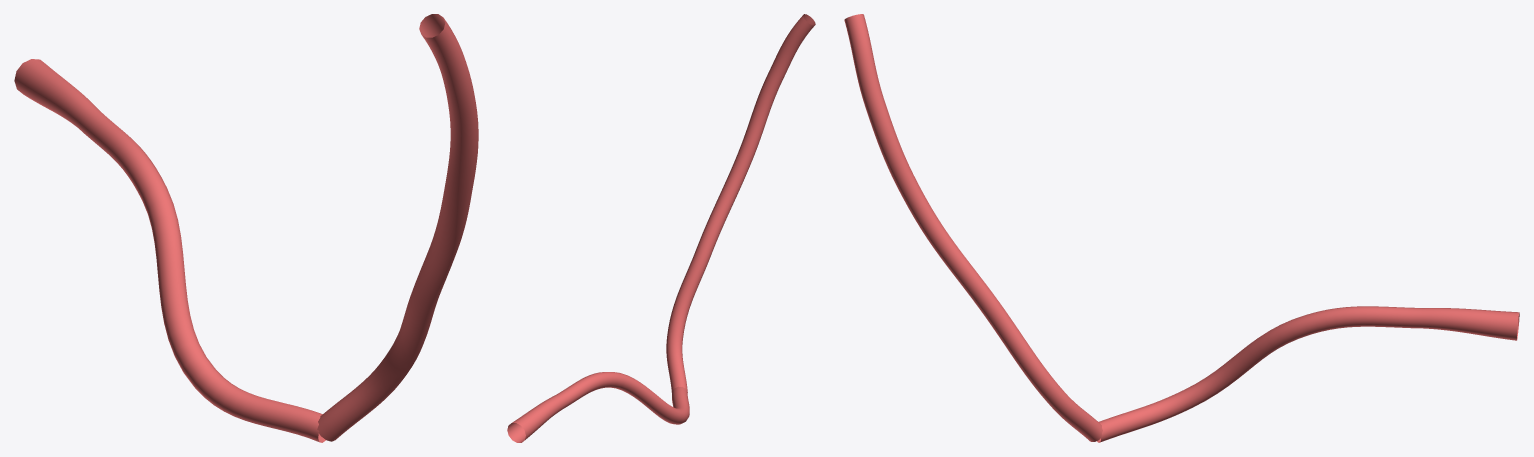
File: Facial_artery.l_BezierCurve.266.glb
3 renders of one model, left to right at view 1: azimuth 30°, elevation 25°; view 2: azimuth 150°, elevation 25°; view 3: azimuth 270°, elevation 25°, orthographic. The views are drawn at different scales.
Parts seen in each view (by area): view 1: Facial_artery.l_BezierCurve.266; view 2: Facial_artery.l_BezierCurve.266; view 3: Facial_artery.l_BezierCurve.266.
Boxes of the visible parts, left/top/right/bottom form: Facial_artery.l_BezierCurve.266: left=14, top=14, right=478, bottom=442; Facial_artery.l_BezierCurve.266: left=507, top=14, right=815, bottom=442; Facial_artery.l_BezierCurve.266: left=844, top=14, right=1519, bottom=442.
Bounding box in the file's own units: 0.0102 × 0.0441 × 0.0659.
